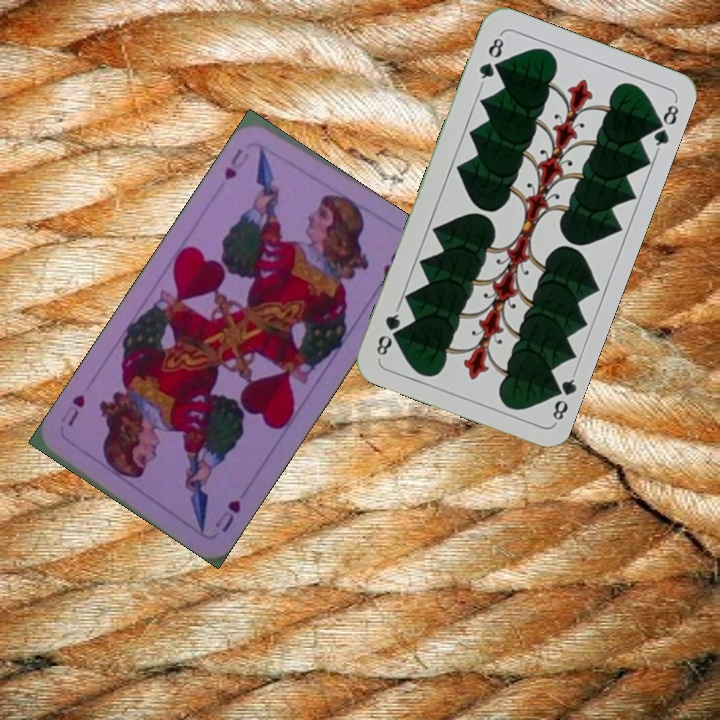G8: (545, 369, 579, 426), (475, 31, 507, 87)
HU: (210, 495, 244, 535), (220, 144, 246, 184)
